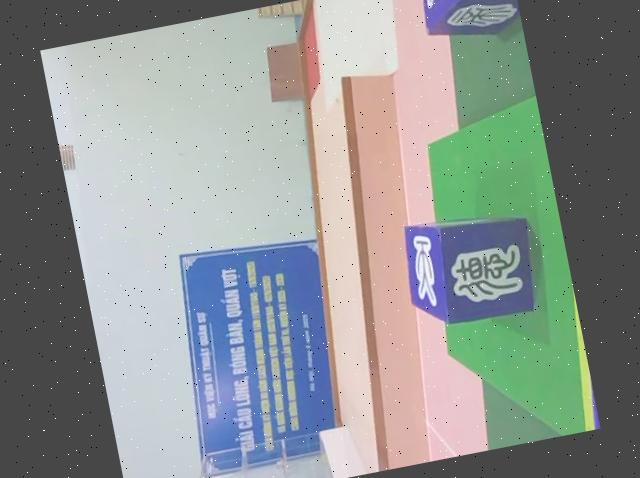R2 Fake Blue: (399, 198, 549, 330), (419, 0, 522, 43)
